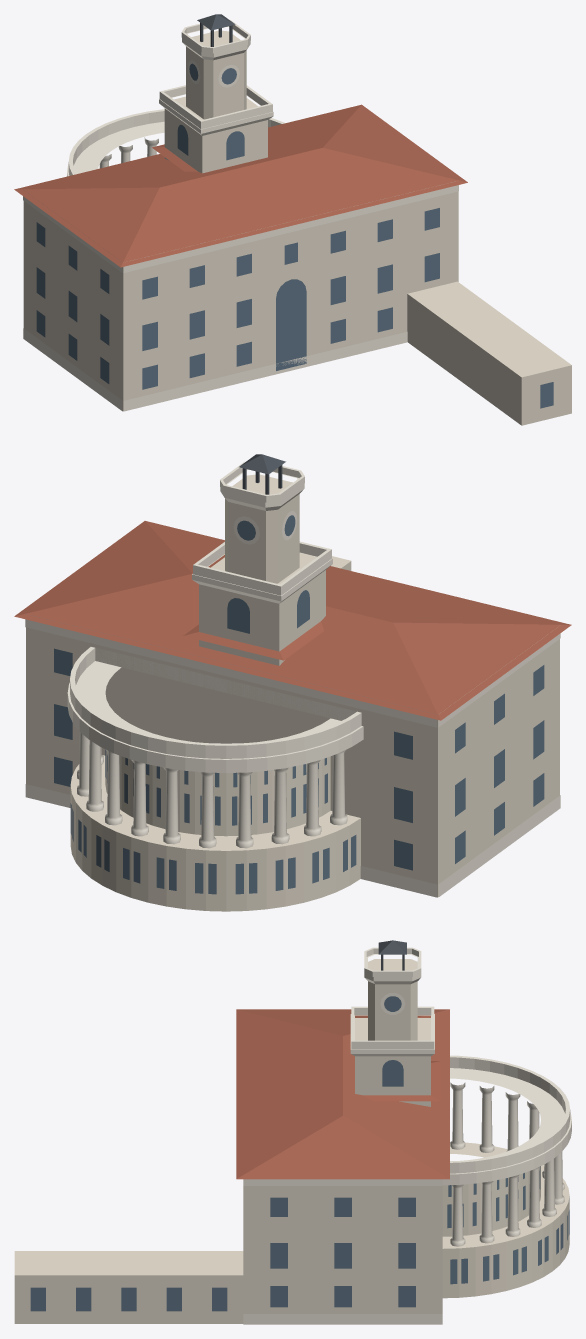
The model's file is mia-coral-gables-city-hall.glb.
The picture shows the model from 3 angles, top to bottom: view 1: azimuth 30°, elevation 25°; view 2: azimuth 150°, elevation 25°; view 3: azimuth 270°, elevation 25°; orthographic projection. The views are drawn at different scales.
Parts seen in each view (by area): view 1: Coral Gables City Hall; view 2: Coral Gables City Hall; view 3: Coral Gables City Hall.
Boxes of the visible parts, x1,y1,x2,y2 form: Coral Gables City Hall: (14,14,571,425); Coral Gables City Hall: (14,454,571,911); Coral Gables City Hall: (14,940,571,1324).
Bounding box in the file's own units: 33.9 × 28.1 × 47.05.
